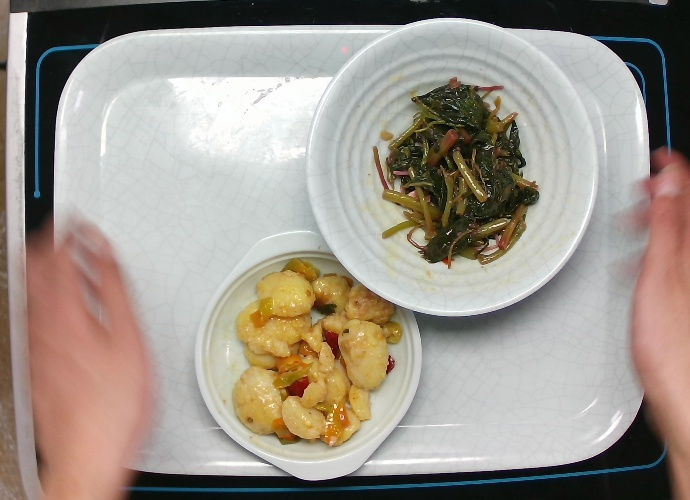JYsf-Shuang_Er_Pan: (188, 226, 429, 488)
JYsf-Xiao_Tang_Wan: (299, 14, 608, 322)
